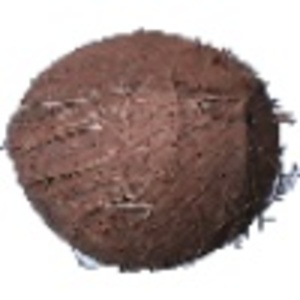coco: (1, 30, 300, 272)
